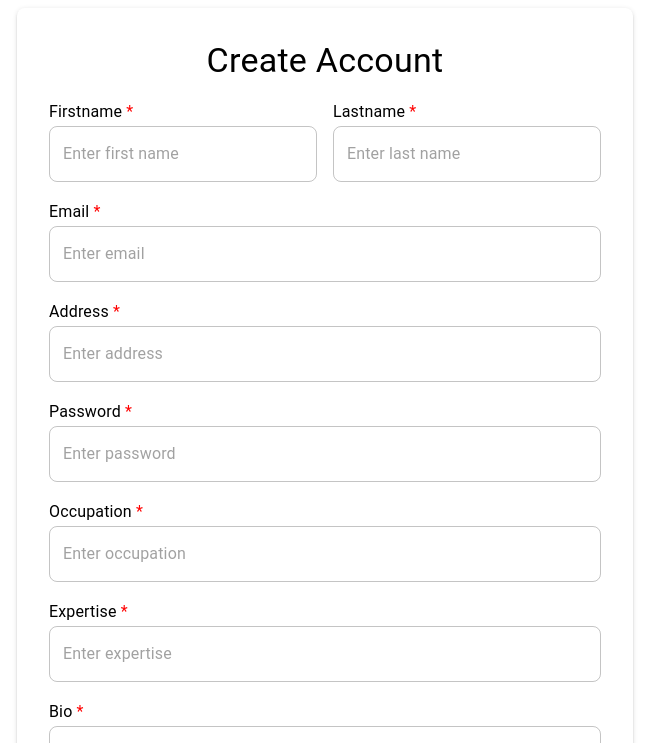
Test: CreateAccount Component › shows error message for short password
Enter a short password and submit the form
Type "123" into the password field with placeholder "Enter password" at (325, 454), box [49,426,601,482]
(page scrolled)
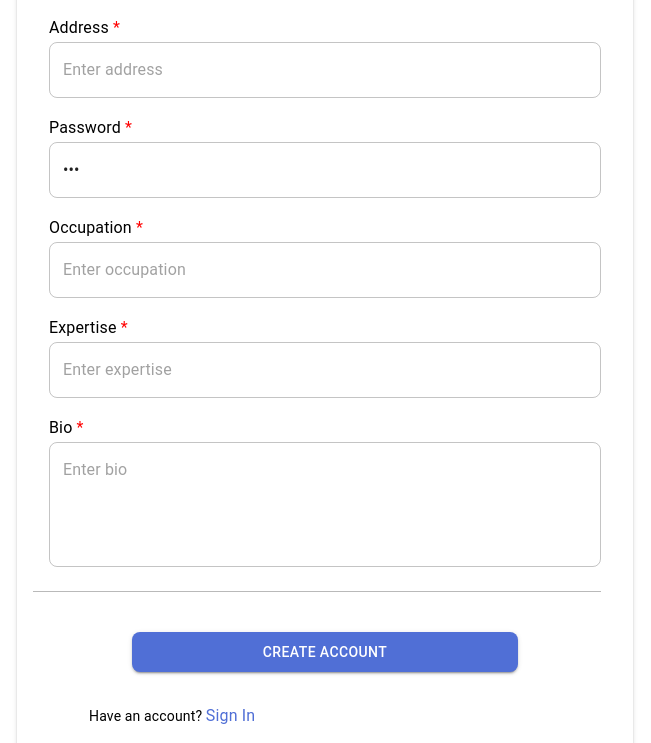
Click the button "Create Account" at (325, 652), box [132,632,518,672]
(page scrolled)
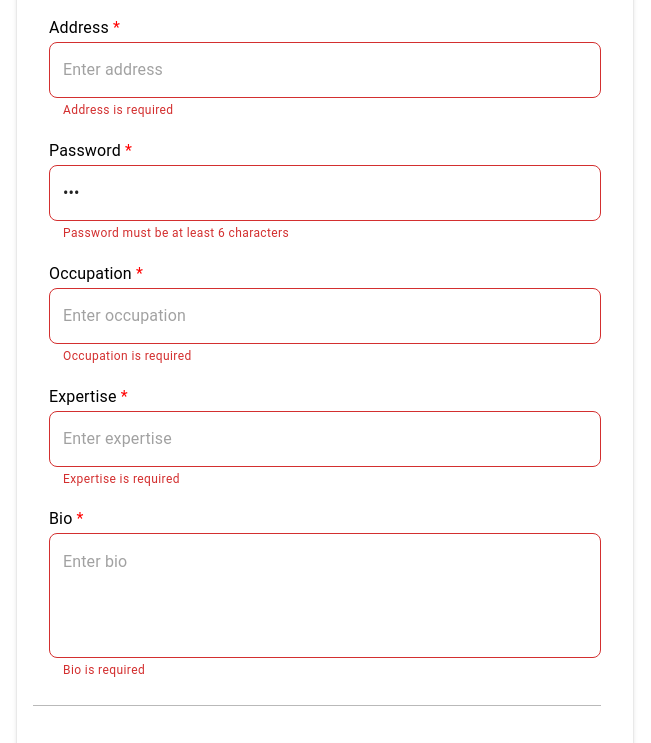
Expected: the text "Password must be at least 6 characters" is shown, [63,226,289,240]
